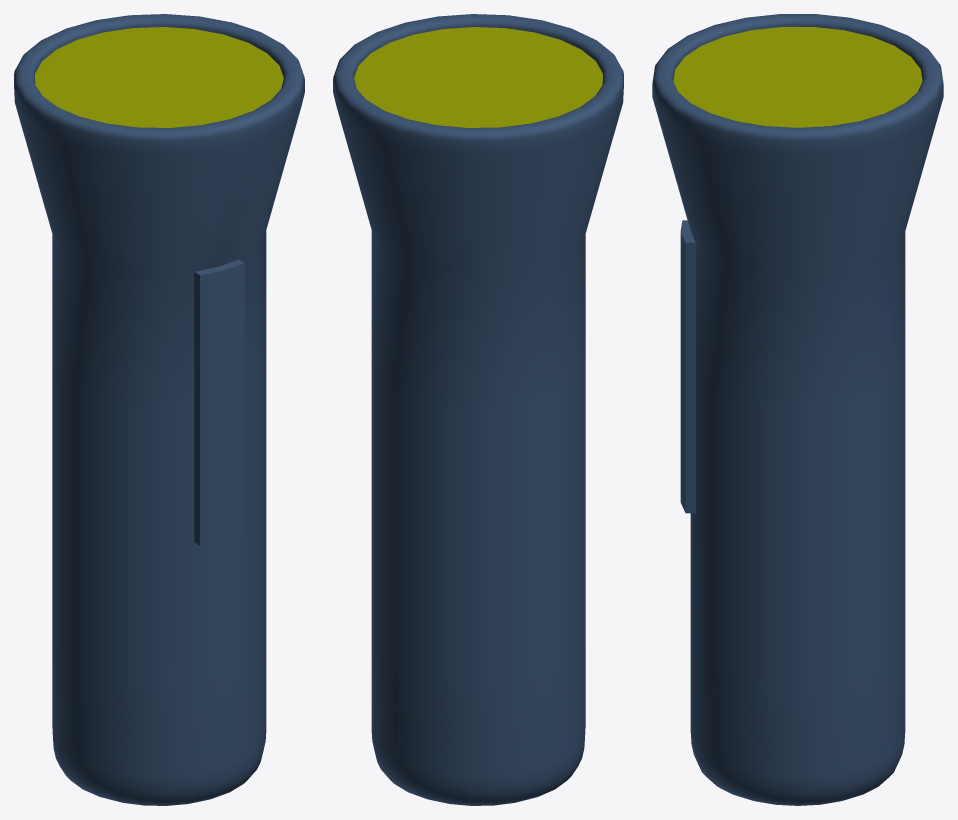
File: Flashlight.FBX
The picture shows the model from 3 angles, left to right: view 1: azimuth 30°, elevation 25°; view 2: azimuth 150°, elevation 25°; view 3: azimuth 270°, elevation 25°; orthographic projection.
Parts seen in each view (by area): view 1: Flashlight; view 2: Flashlight; view 3: Flashlight.
Boxes of the visible parts, <box> form: Flashlight: <box>14,14,304,805</box>; Flashlight: <box>333,14,623,805</box>; Flashlight: <box>652,14,943,805</box>.
Size of the model in its own units: 18.94 by 50.12 by 18.98.
